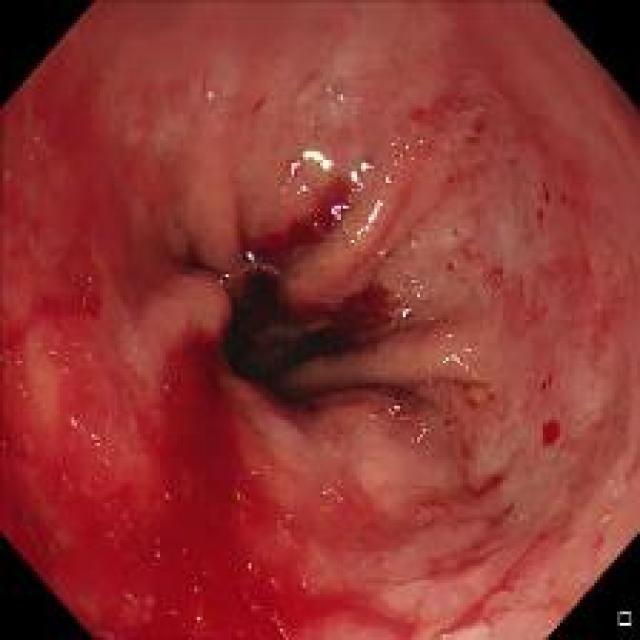blood: (59, 324, 420, 638), (2, 310, 54, 575), (239, 176, 352, 269), (275, 289, 411, 355)
bubbles: (409, 238, 421, 254)
color misalignment: (389, 401, 404, 412), (221, 272, 234, 284), (88, 429, 100, 441), (69, 415, 81, 426)
contrast: (220, 266, 330, 406)
specularity: (358, 196, 382, 238), (348, 160, 371, 190), (301, 149, 332, 171), (329, 200, 350, 224), (281, 159, 296, 189), (296, 181, 310, 195), (400, 305, 412, 320), (241, 249, 254, 261), (335, 92, 346, 105)
